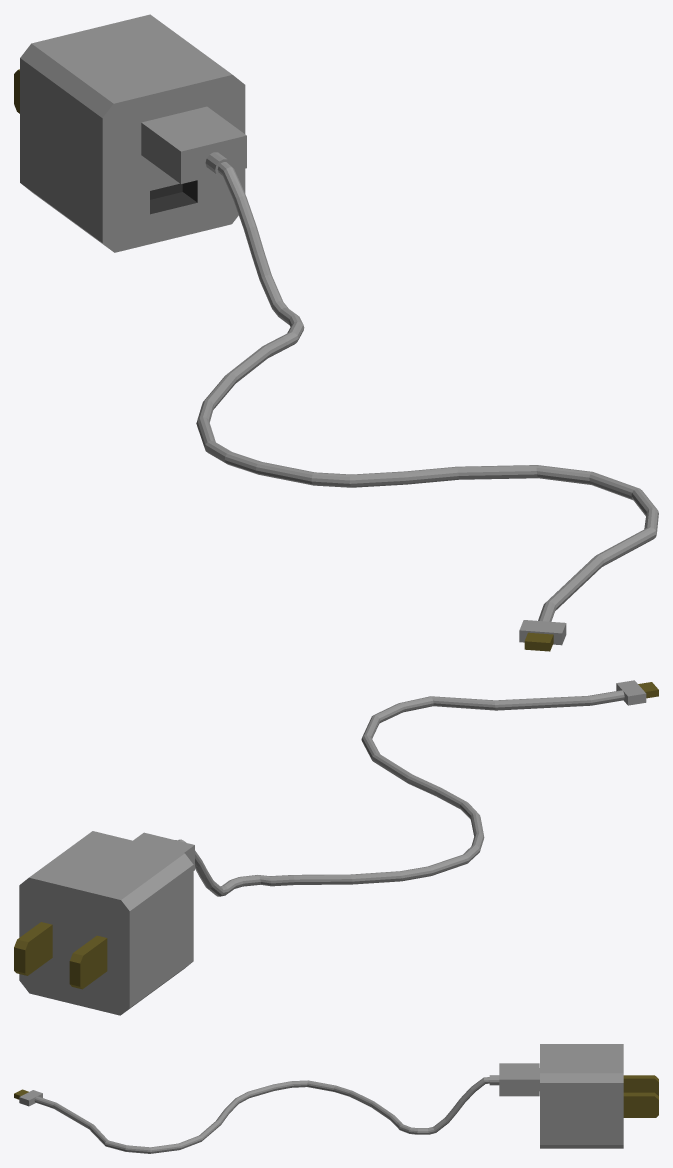
The model's file is Phone Charger.fbx.
3 views of the same model, one above another, from view 1: azimuth 30°, elevation 25°; view 2: azimuth 150°, elevation 25°; view 3: azimuth 270°, elevation 25° (orthographic). The views are drawn at different scales.
Visible parts, largest first — view 1: Cube; view 2: Cube; view 3: Cube.
Boxes of the visible parts, x1,y1,x2,y2 form: Cube: [14, 14, 658, 651]; Cube: [14, 680, 658, 1015]; Cube: [14, 1044, 658, 1153].
Bounding box in the file's own units: 396 × 202 × 1546.
